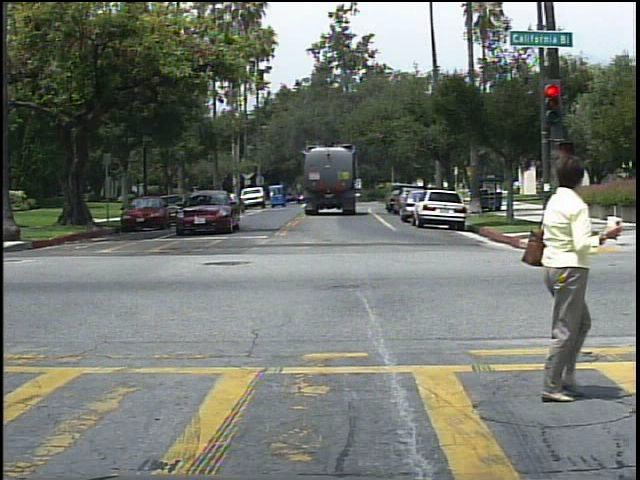person: (497, 135, 617, 408), (512, 180, 526, 199)
